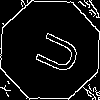U: (25, 25, 83, 78)
